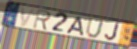2: (50, 12, 70, 36)
A: (66, 16, 85, 37)
J: (104, 23, 120, 41)
R: (32, 8, 53, 32)
U: (84, 17, 105, 39)
V: (19, 6, 37, 28)
